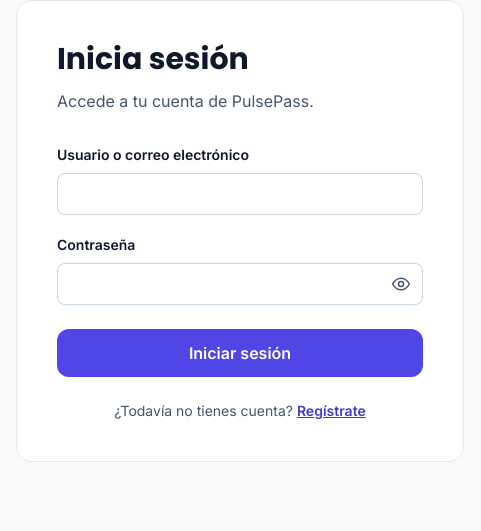
Test: login vacío no dispara peticiones
The image size is (481, 531).
Step 1. Click the button "Iniciar sesión" → (240, 353), box left=57, top=329, right=423, bottom=377
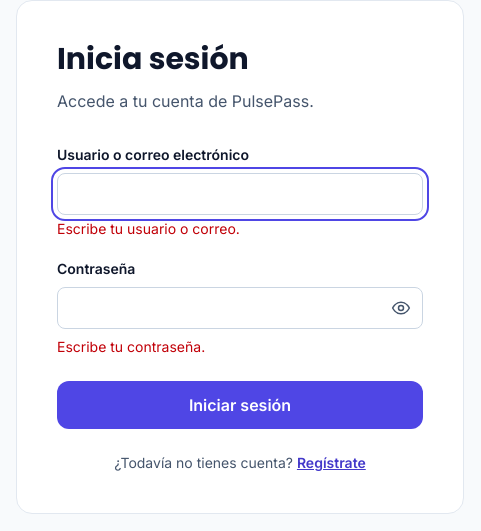
Check: the text "Escribe tu contraseña." is shown, box left=57, top=338, right=205, bottom=355
